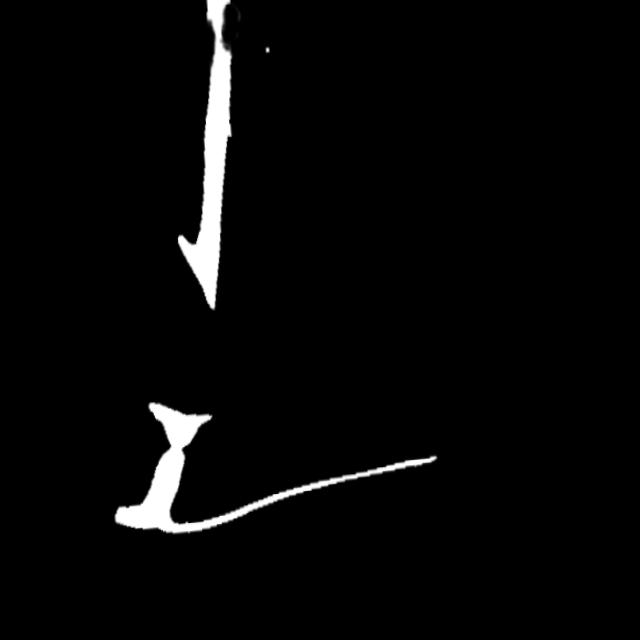sl: (197, 1, 244, 80)
